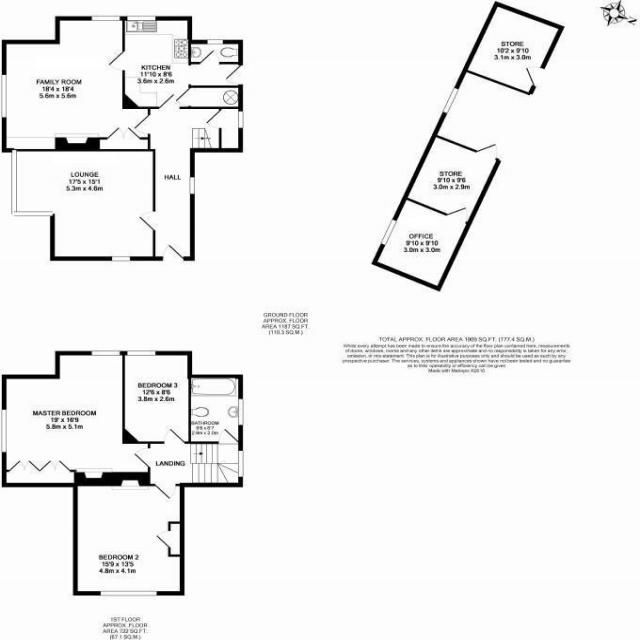DOOR: (224, 64, 243, 86), (162, 243, 185, 261), (107, 50, 125, 72), (154, 483, 177, 500), (137, 211, 156, 231), (132, 114, 151, 134), (133, 447, 151, 468), (158, 93, 181, 109), (218, 428, 239, 445), (163, 428, 185, 444), (199, 49, 220, 65)
ROOM: (1, 15, 151, 153), (1, 351, 151, 488), (11, 148, 156, 261), (72, 479, 185, 596), (107, 16, 243, 109), (122, 350, 192, 444)
WINDOW: (99, 591, 158, 596), (1, 409, 7, 453), (1, 74, 7, 118), (126, 15, 156, 22), (237, 398, 244, 426), (126, 350, 156, 356), (91, 350, 121, 356), (238, 450, 244, 478), (90, 16, 120, 21), (189, 176, 195, 195), (238, 111, 244, 129), (207, 39, 224, 45), (111, 256, 131, 261)
